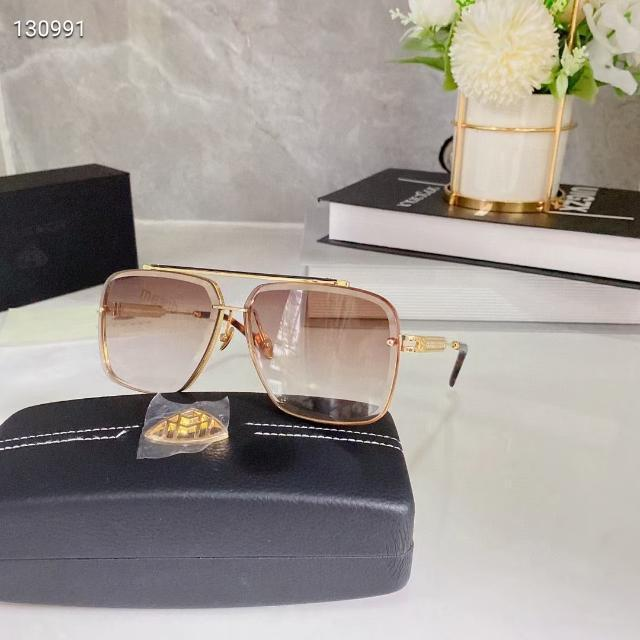sunglasses: (93, 264, 471, 430)
